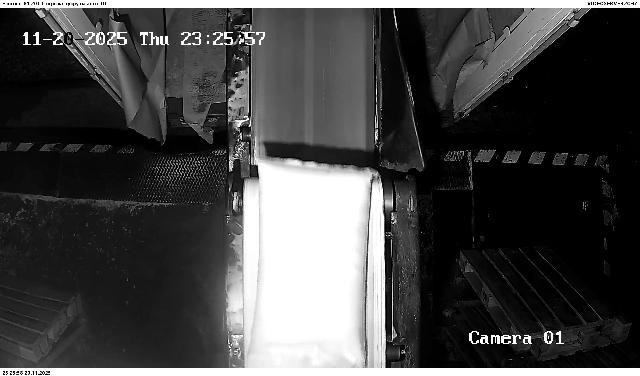bag: (249, 157, 379, 368)
